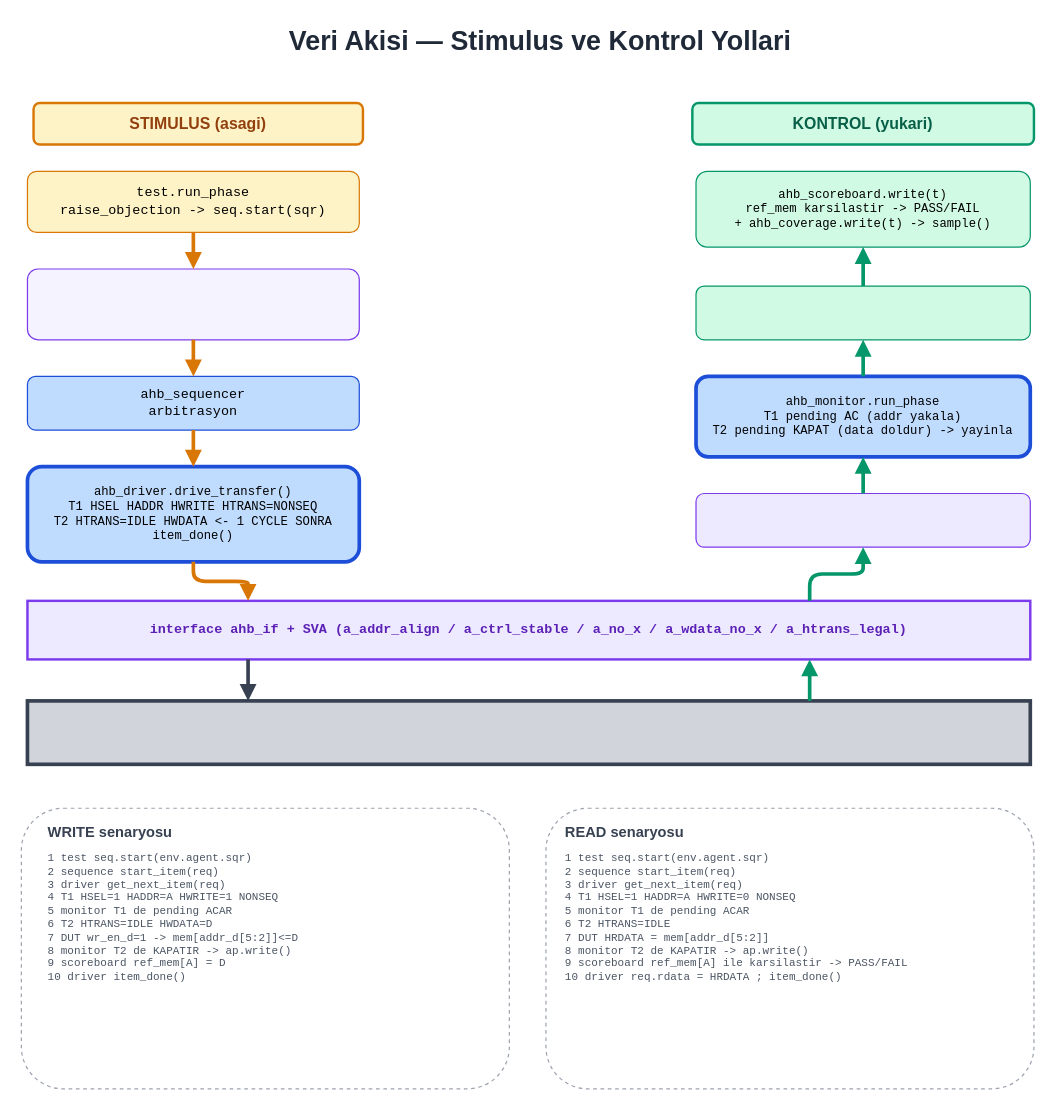
This 1057x1110 diagram has some shape labels left out. The shapes that lost their labels are listed below. From the top down, each one's centre as x and y in pixels, then its label:
pixel 192 304: sequence.body() create -> start_item -> randomize -> finish_item
pixel 862 312: ap.write(item) broadcast, non-blocking
pixel 862 519: mon_cb ornekleme pasif — surme YOK
pixel 528 732: DUT — ahb_lite_slave (addr_d / wr_en_d = pipeline register)
